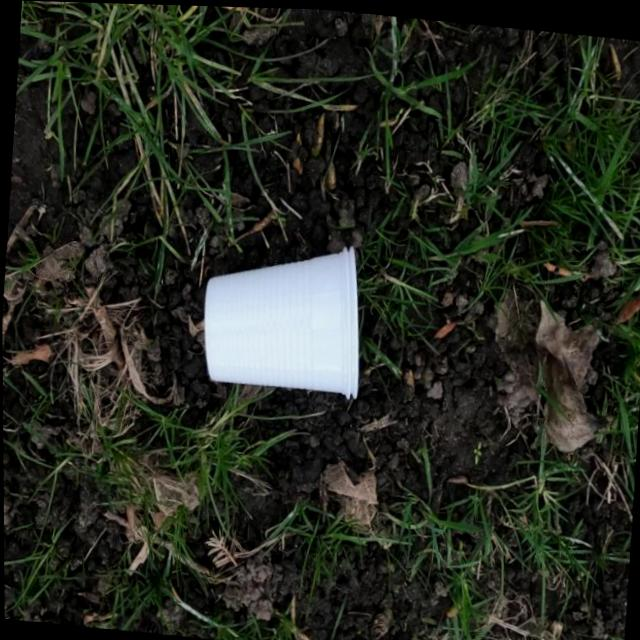Cup: (196, 226, 371, 400)
